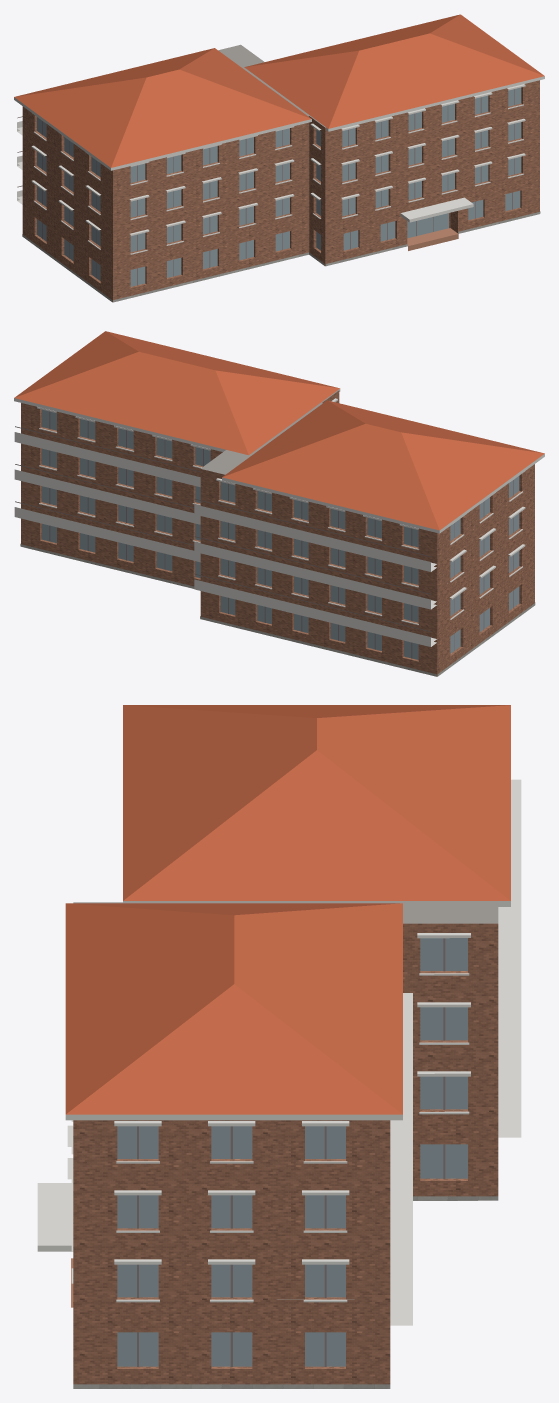
3 views of the same model, one above another, from view 1: azimuth 30°, elevation 25°; view 2: azimuth 150°, elevation 25°; view 3: azimuth 270°, elevation 25° (orthographic). The views are drawn at different scales.
Visible parts, largest first — view 1: osm136187756__wall, osm136187756__roofAccent, osm136187756__glass, osm136187756__trim, osm136187756__base, osm136187756__frame, osm136187756__canopy, osm136187756__roof, osm136187756__entranceThreshold_0; view 2: osm136187756__wall, osm136187756__roofAccent, osm136187756__trim, osm136187756__glass, osm136187756__frame, osm136187756__base, osm136187756__roof; view 3: osm136187756__roofAccent, osm136187756__wall, osm136187756__glass, osm136187756__trim, osm136187756__roof, osm136187756__canopy, osm136187756__base, osm136187756__frame.
Part boxes in pixels (x1,y1,x2,y2): osm136187756__wall: (22, 80, 539, 301); osm136187756__roofAccent: (14, 14, 544, 167); osm136187756__glass: (37, 87, 521, 286); osm136187756__trim: (14, 76, 544, 254); osm136187756__base: (22, 211, 540, 302); osm136187756__frame: (17, 89, 514, 285); osm136187756__canopy: (400, 197, 473, 222); osm136187756__roof: (112, 44, 325, 302); osm136187756__entranceThreshold_0: (407, 228, 458, 250); osm136187756__wall: (21, 390, 534, 676); osm136187756__roofAccent: (14, 331, 544, 530); osm136187756__trim: (14, 389, 544, 646); osm136187756__glass: (41, 409, 519, 659); osm136187756__frame: (15, 411, 513, 658); osm136187756__base: (20, 543, 535, 676); osm136187756__roof: (201, 390, 437, 676); osm136187756__roofAccent: (65, 705, 510, 1114); osm136187756__wall: (73, 923, 498, 1384); osm136187756__glass: (117, 938, 467, 1366); osm136187756__trim: (65, 779, 521, 1325); osm136187756__roof: (73, 901, 498, 1299); osm136187756__canopy: (37, 1183, 73, 1251); osm136187756__base: (73, 1196, 498, 1388); osm136187756__frame: (137, 938, 445, 1366).
Bounding box in the file's own units: 38.07 × 15.39 × 18.99.
Materials: 10 (2 with a texture image).
